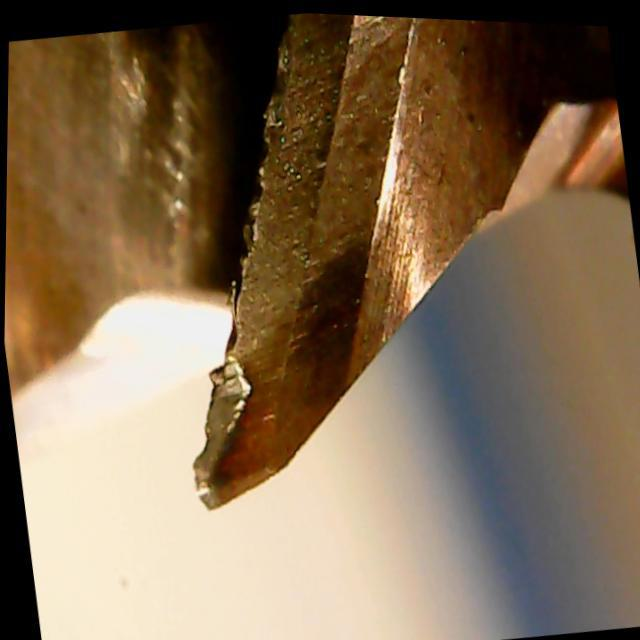Tool-wear-class-2: (154, 282, 359, 536)
